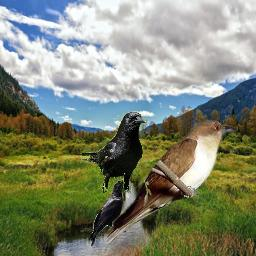Crow: (80, 111, 147, 193), (88, 177, 126, 246)
Cuckoo: (107, 119, 237, 245)
